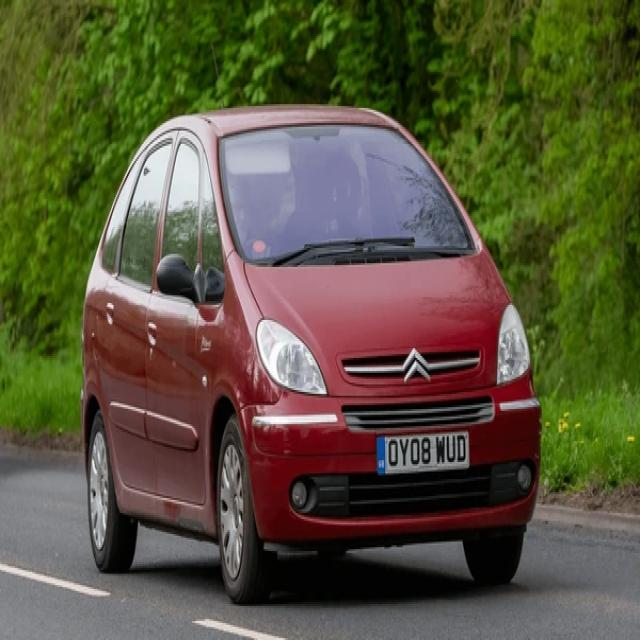citroen: (402, 350, 432, 382)
